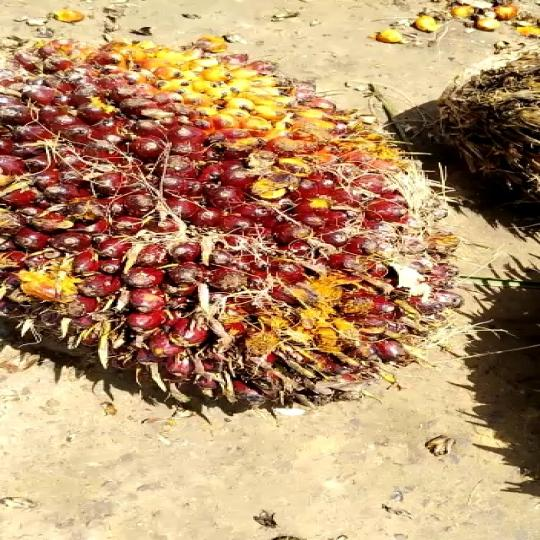kurang masak: (0, 30, 457, 421)
